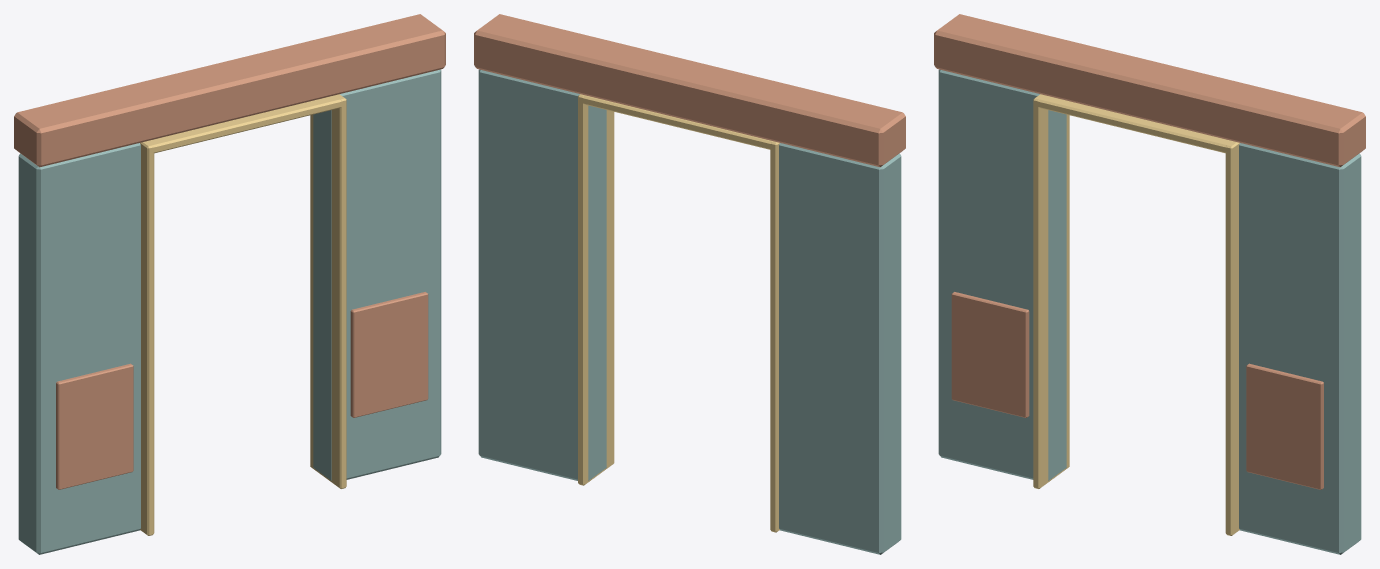
Rendered from wreck_bulkhead_2m.glb.
3 renders of one model, left to right at view 1: azimuth 30°, elevation 25°; view 2: azimuth 150°, elevation 25°; view 3: azimuth 330°, elevation 25°, orthographic.
Visible parts, largest first — view 1: wreck_bulkhead_2m; view 2: wreck_bulkhead_2m; view 3: wreck_bulkhead_2m.
Part boxes in pixels (x1,y1,x2,y2): wreck_bulkhead_2m: [14, 14, 445, 554]; wreck_bulkhead_2m: [474, 14, 905, 554]; wreck_bulkhead_2m: [934, 14, 1365, 554].
Bounding box in the file's own units: 2 × 2 × 0.26.
